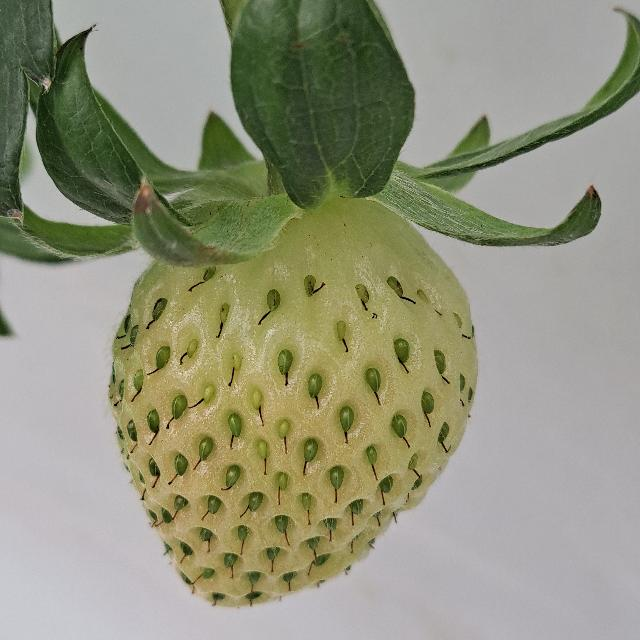Health_25: (108, 196, 478, 608)
